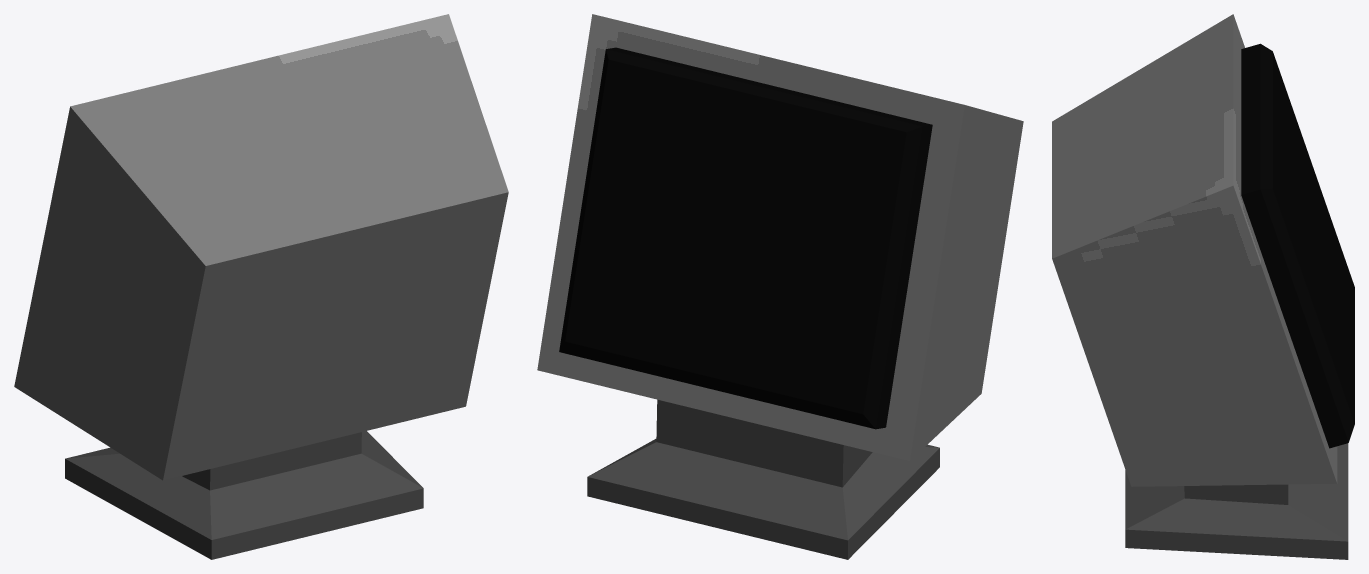
File: computah.gltf
The picture shows the model from 3 angles, left to right: view 1: azimuth 30°, elevation 25°; view 2: azimuth 150°, elevation 25°; view 3: azimuth 270°, elevation 25°; orthographic projection. The views are drawn at different scales.
Visible parts, largest first — view 1: mesh; view 2: mesh; view 3: mesh.
Part boxes in pixels (<box>): mesh: <box>14,14,508,559</box>; mesh: <box>537,14,1023,559</box>; mesh: <box>1052,14,1354,559</box>.
Size of the model in its own units: 1.25 by 1.36 by 0.9326.
